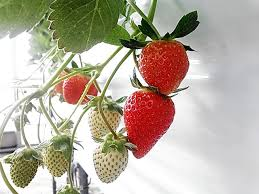ripe: (122, 88, 178, 162), (134, 36, 196, 92), (61, 67, 103, 105)
unripe: (94, 141, 133, 186), (5, 141, 39, 192), (41, 133, 73, 185), (87, 107, 122, 139)
